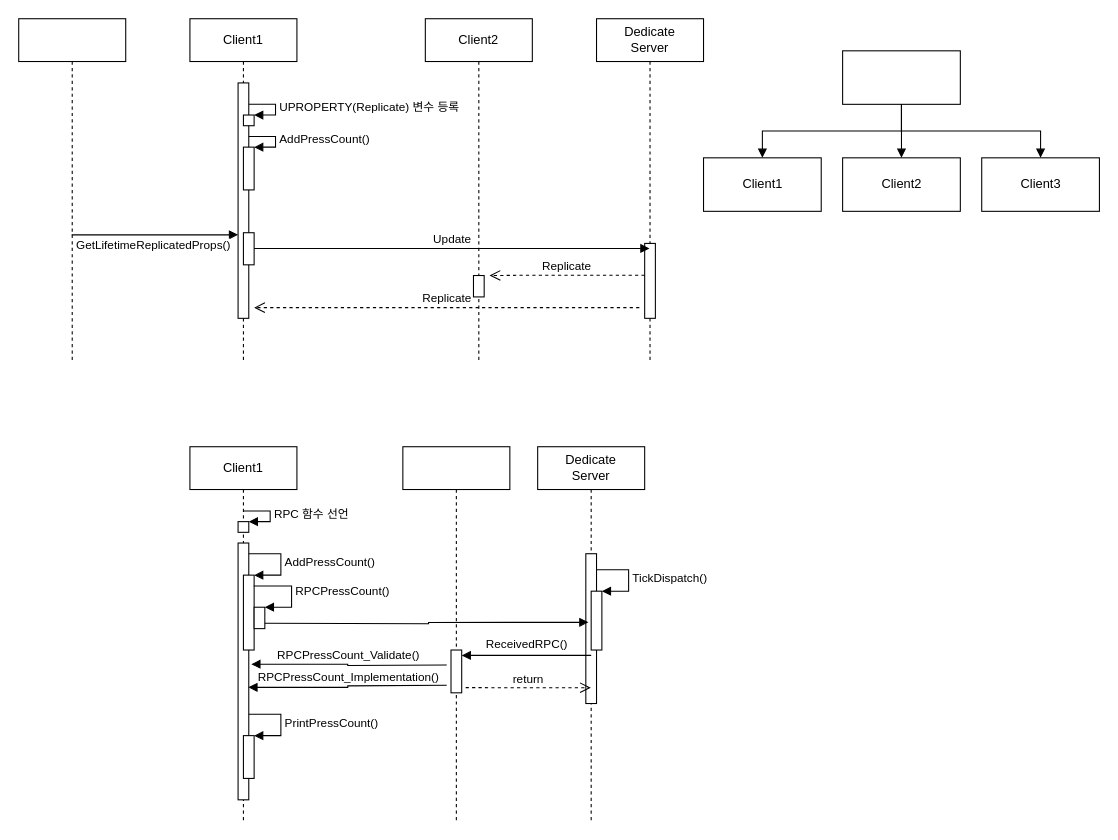
This 1118x840 diagram has some shape labels left out. Here are the shapes that lost their labels. From the top down, the box of each, then its label:
(842, 50, 960, 104): Dedicated Server
(18, 18, 126, 361): NetDriver
(402, 446, 510, 821): FObject Replicator
